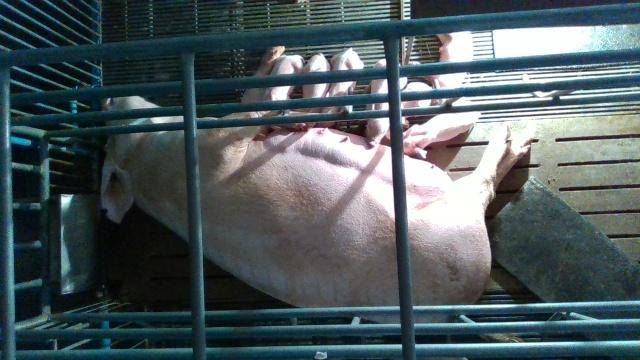piglet: (410, 31, 473, 106), (317, 48, 364, 127), (403, 111, 480, 158), (366, 58, 405, 149), (291, 54, 331, 129), (265, 55, 304, 101)
sow-sleep-lactate: (99, 43, 537, 324)
